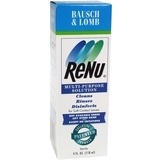grozi_1: (0, 0, 160, 160)
